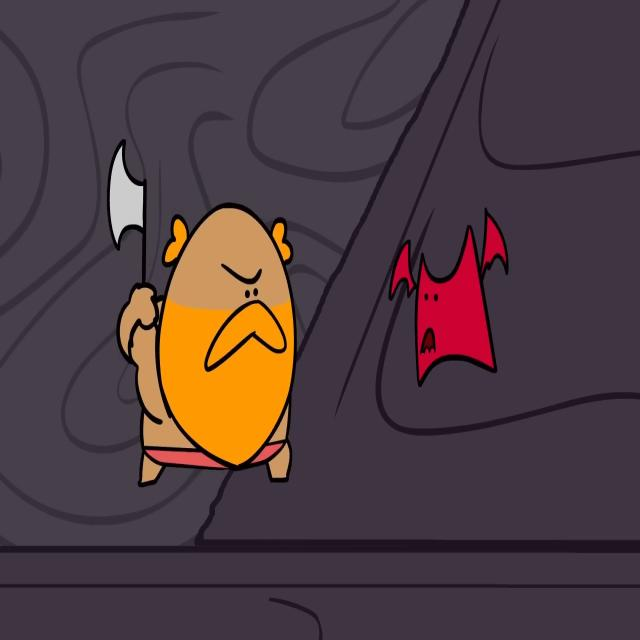Haagen-Daz: (116, 202, 298, 489)
